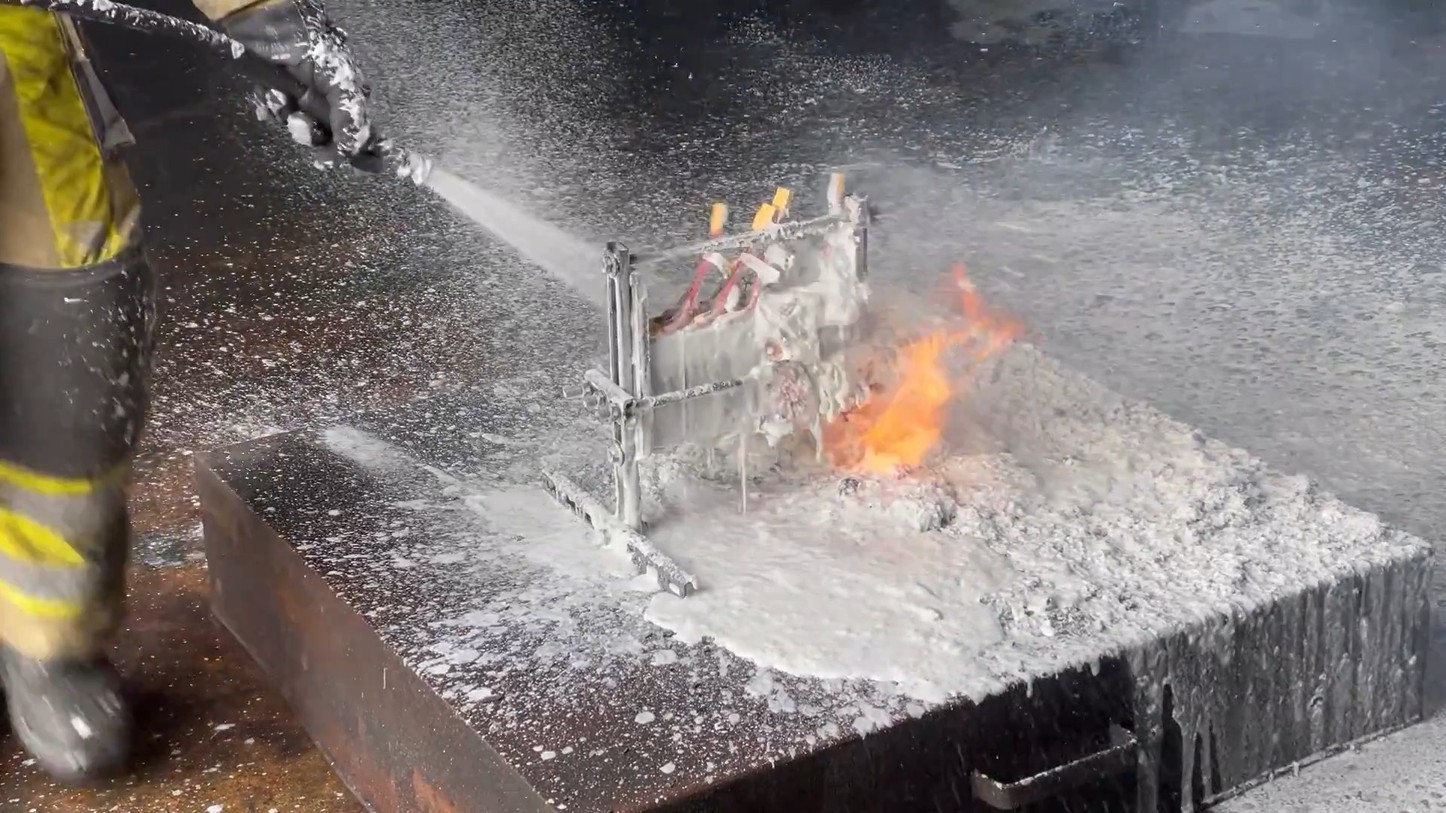fire: (813, 260, 1030, 480)
